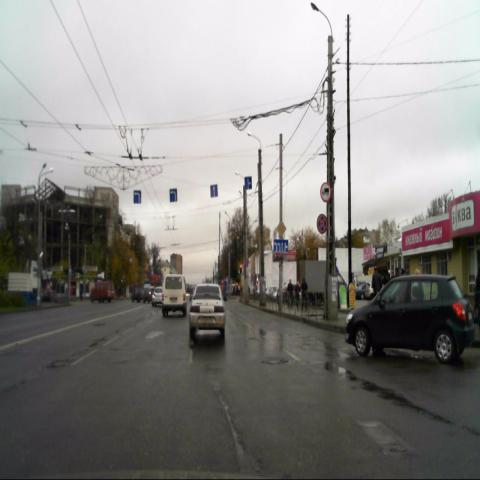3_4_1: (320, 182, 331, 203)
